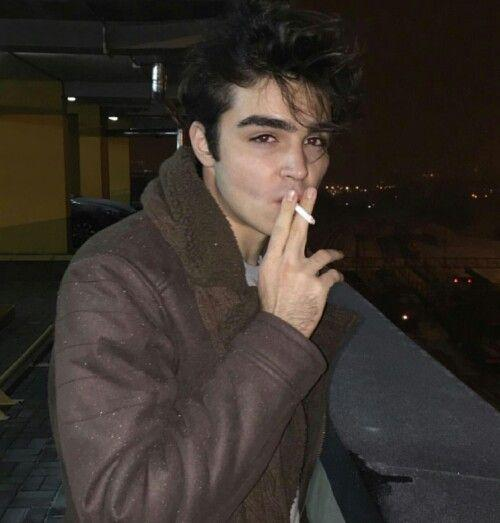cigarette: (295, 204, 315, 226)
